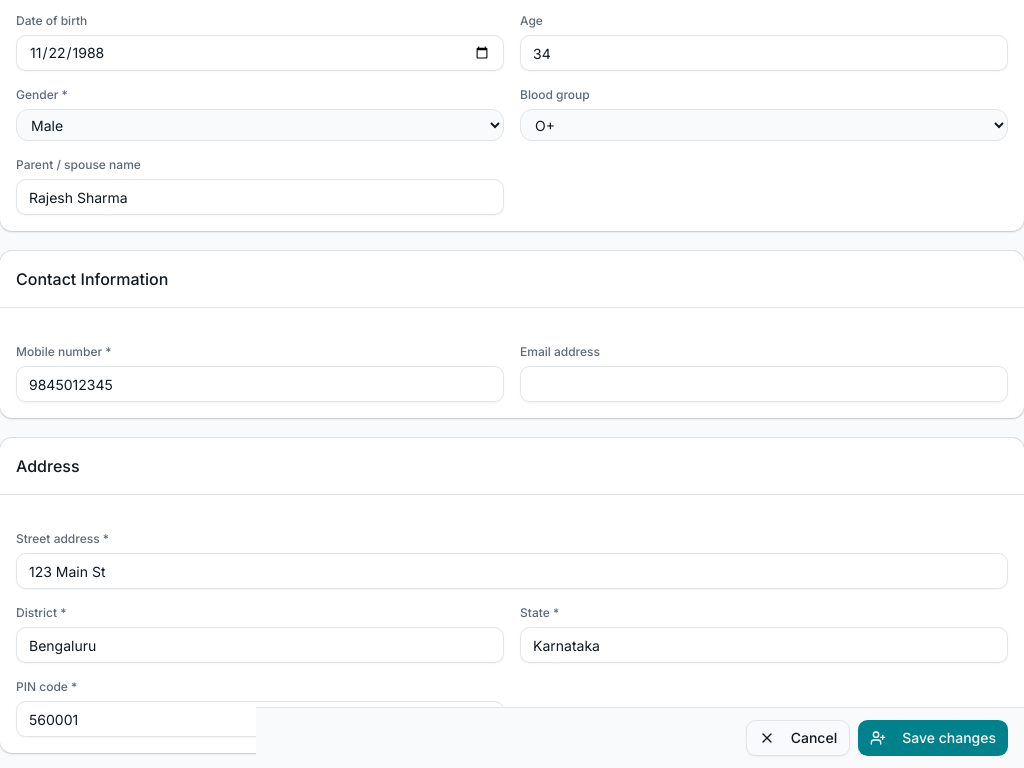
Test: PatientProfileEditor › validates email format before saving
(page scrolled)
Type "invalid-email" into the field labelled "Email address". click: point(764, 384)
box: [520,366,1008,402]
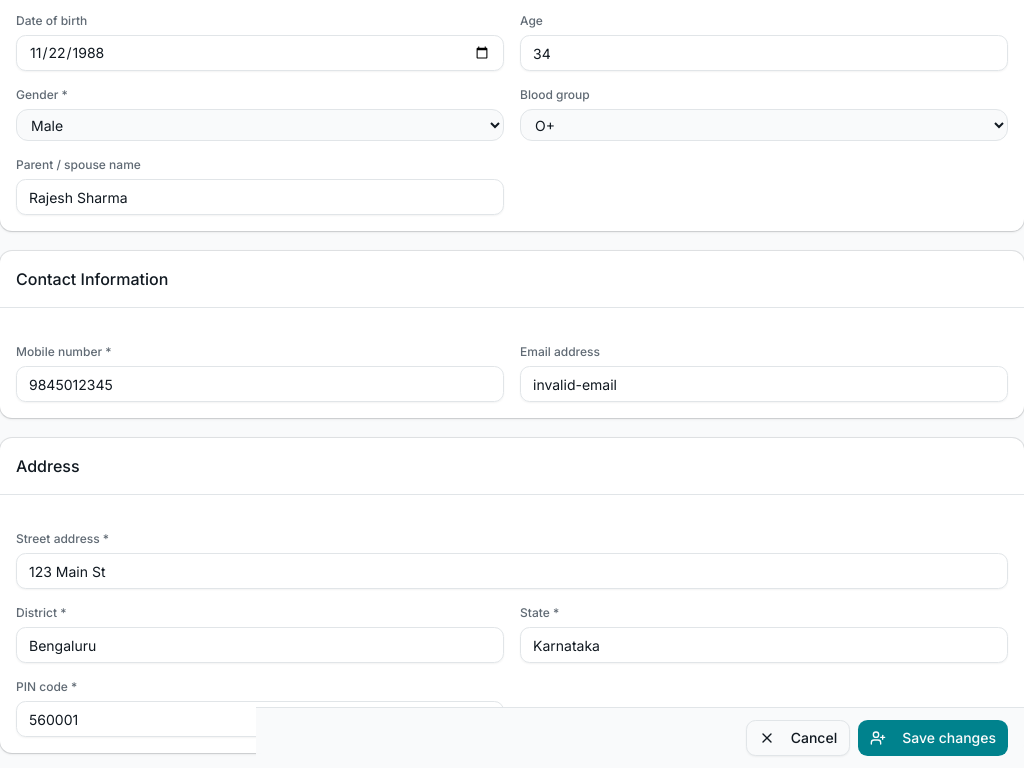
Click the button "Save changes". click: point(933, 738)
box: [858,720,1008,756]
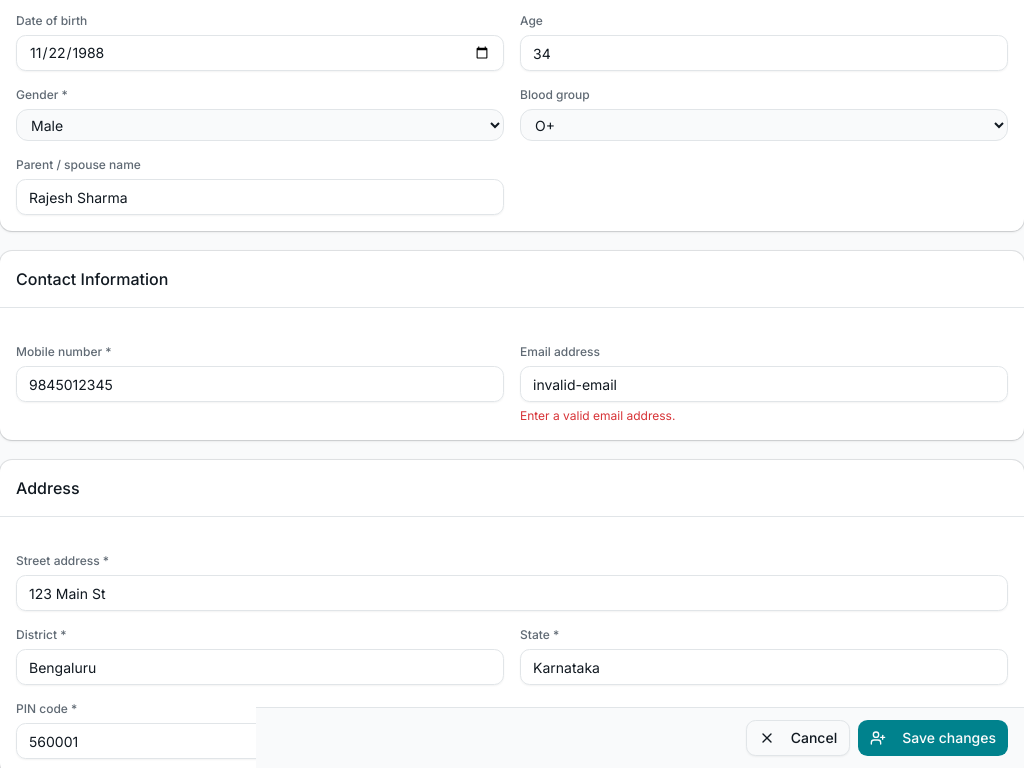
Expected: the text "Enter a valid email address." is shown, [520,408,675,423]
